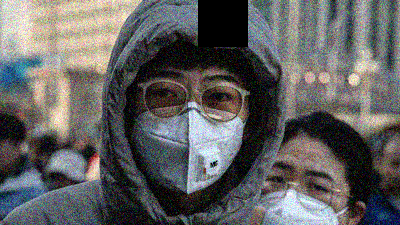with_mask: (130, 67, 249, 198), (256, 157, 351, 225)
